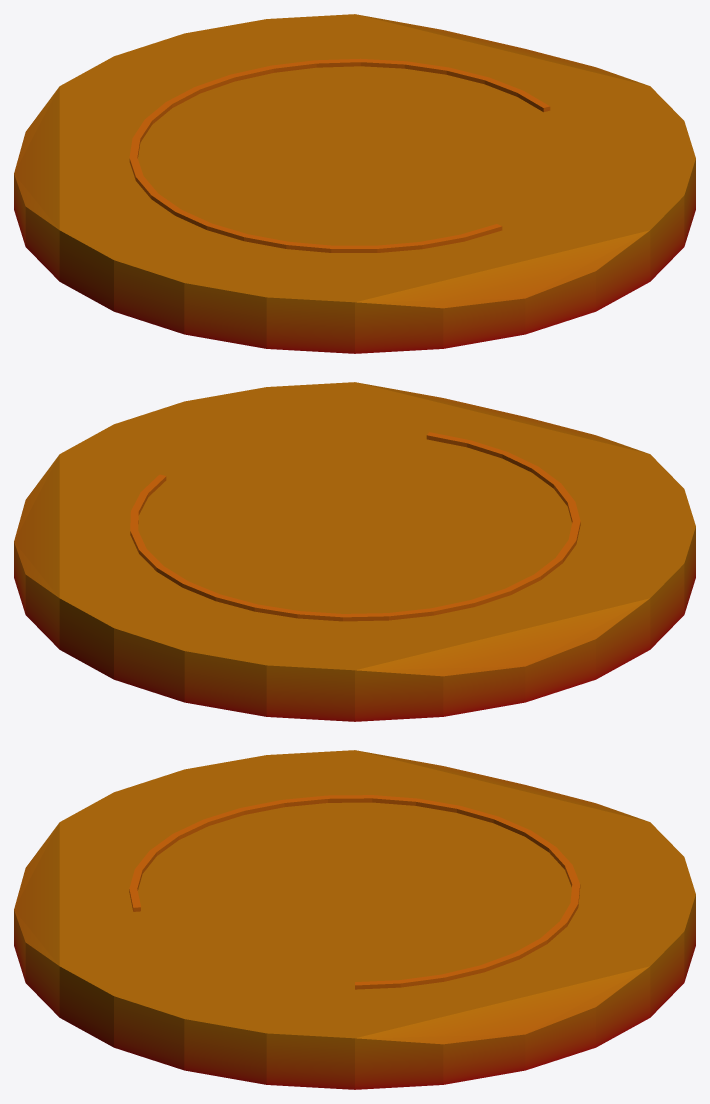
Rendered from plaza_ring_broken.glb.
3 views of the same model, one above another, from view 1: azimuth 30°, elevation 25°; view 2: azimuth 150°, elevation 25°; view 3: azimuth 270°, elevation 25° (orthographic).
Parts seen in each view (by area): view 1: plaza_ring_broken; view 2: plaza_ring_broken; view 3: plaza_ring_broken.
Part boxes in pixels (x1,y1,x2,y2): plaza_ring_broken: (14, 14, 695, 353); plaza_ring_broken: (14, 382, 695, 721); plaza_ring_broken: (14, 750, 695, 1089).
Size of what is drawn, in the model's own units: 6 by 0.54 by 6.
